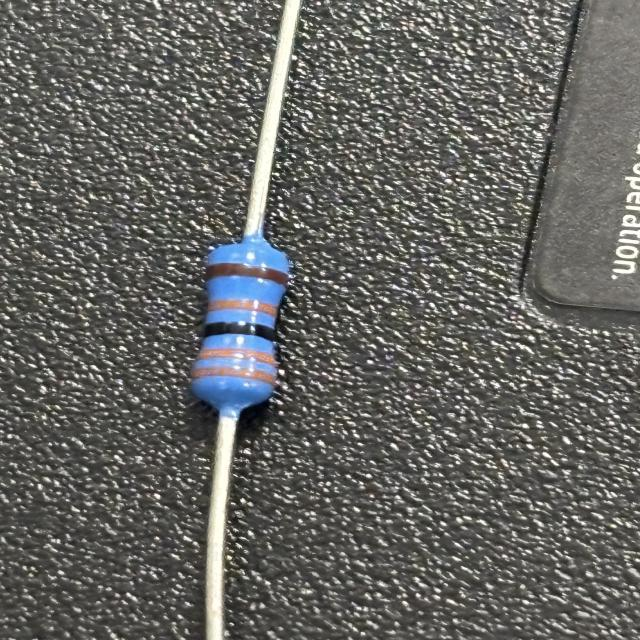resistor: (181, 240, 295, 414)
